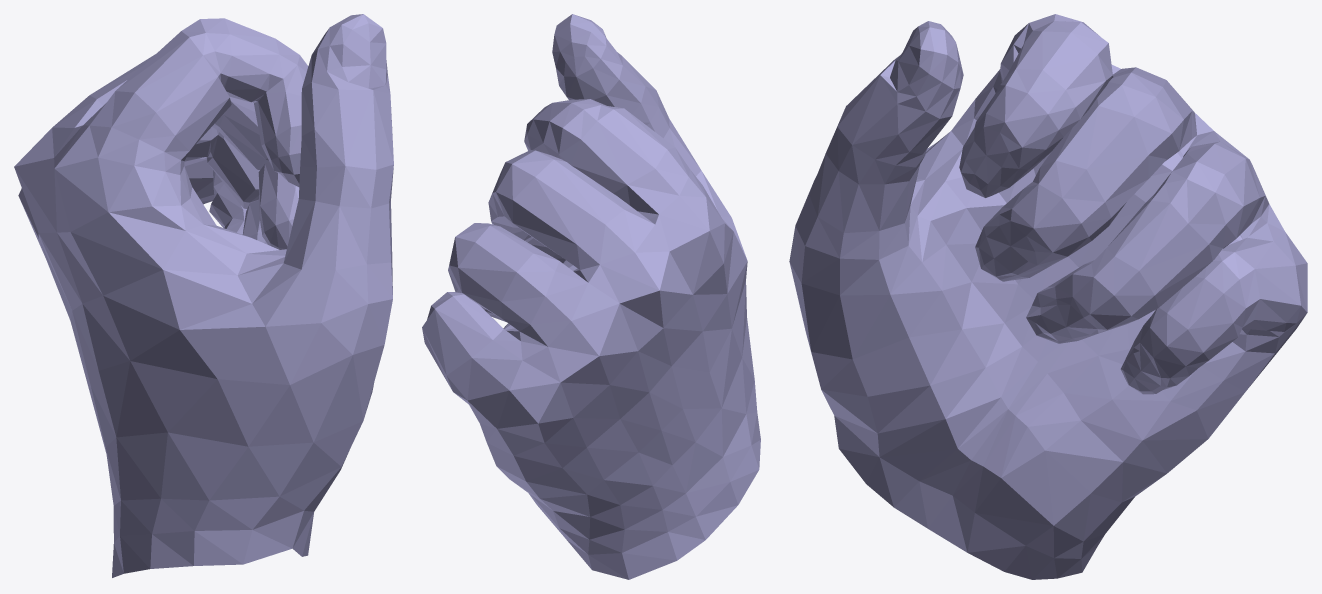
Rendered from frame_0041_source_000041_hand.glb.
3 views of the same model, side by side, from view 1: azimuth 30°, elevation 25°; view 2: azimuth 150°, elevation 25°; view 3: azimuth 270°, elevation 25° (orthographic). The views are drawn at different scales.
Visible parts, largest first — view 1: world; view 2: world; view 3: world.
Part boxes in pixels (left/top/right/bottom): world: left=14, top=14, right=393, bottom=577; world: left=422, top=14, right=760, bottom=579; world: left=789, top=14, right=1307, bottom=579.
Size of the model in its own units: 0.0608 by 0.1242 by 0.0981.
